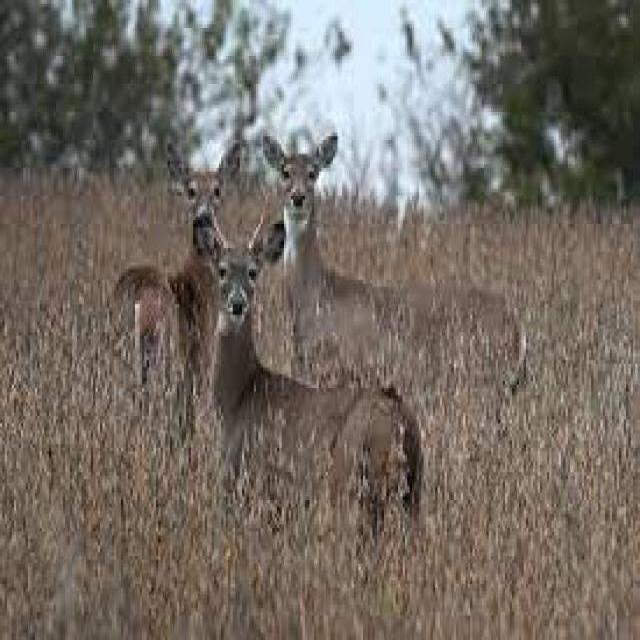deer: (263, 138, 531, 411), (201, 227, 427, 546), (106, 145, 227, 404)
